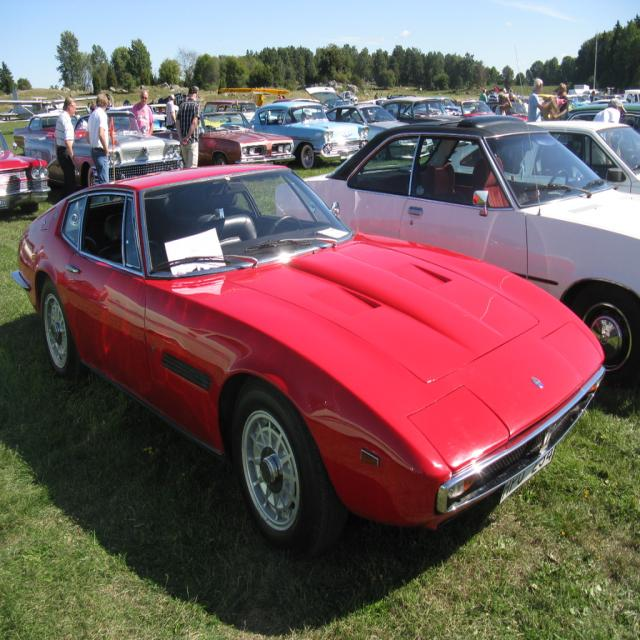car: (30, 166, 609, 551)
